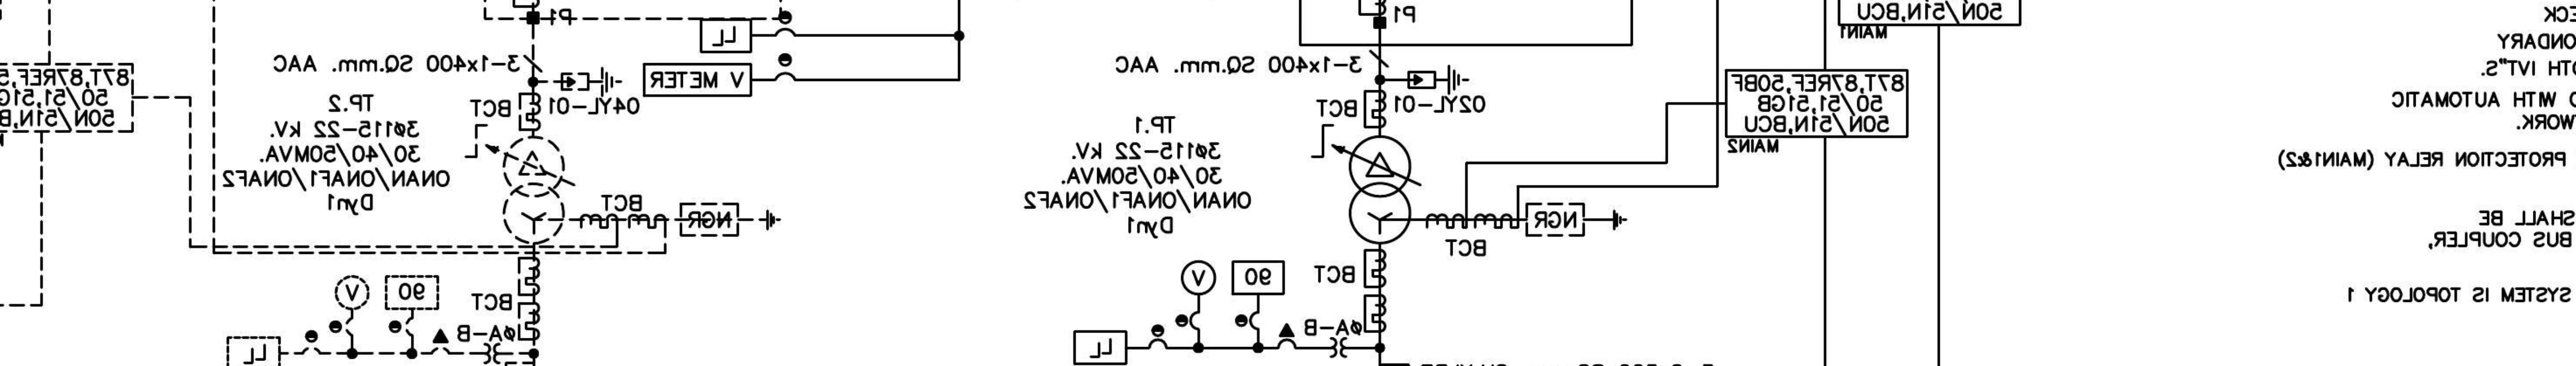11522_tx_dyn1: (1347, 135, 1411, 245)
115_la: (1406, 64, 1470, 97)
LL: (1073, 330, 1129, 366), (700, 18, 752, 54)
NGR_future: (1525, 202, 1628, 238)
v_m: (1180, 259, 1217, 295)
v_m_digital: (642, 62, 752, 98)
